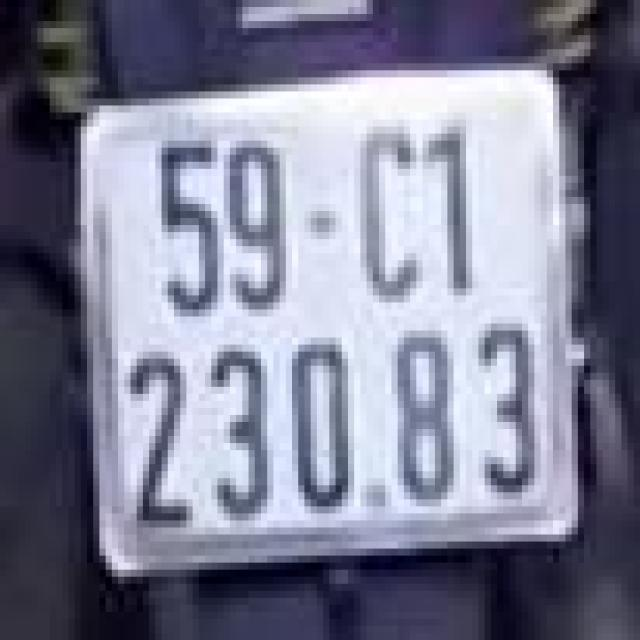0: (286, 327, 360, 517)
1: (422, 123, 478, 306)
2: (109, 330, 183, 528)
3: (463, 313, 544, 510), (208, 327, 277, 531)
5: (146, 120, 227, 316)
8: (379, 320, 466, 517)
9: (224, 123, 286, 313)
C: (342, 120, 428, 302)
